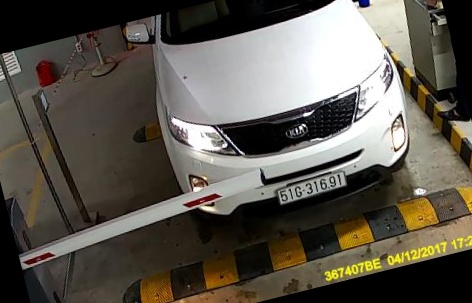plate: (270, 163, 350, 212)
